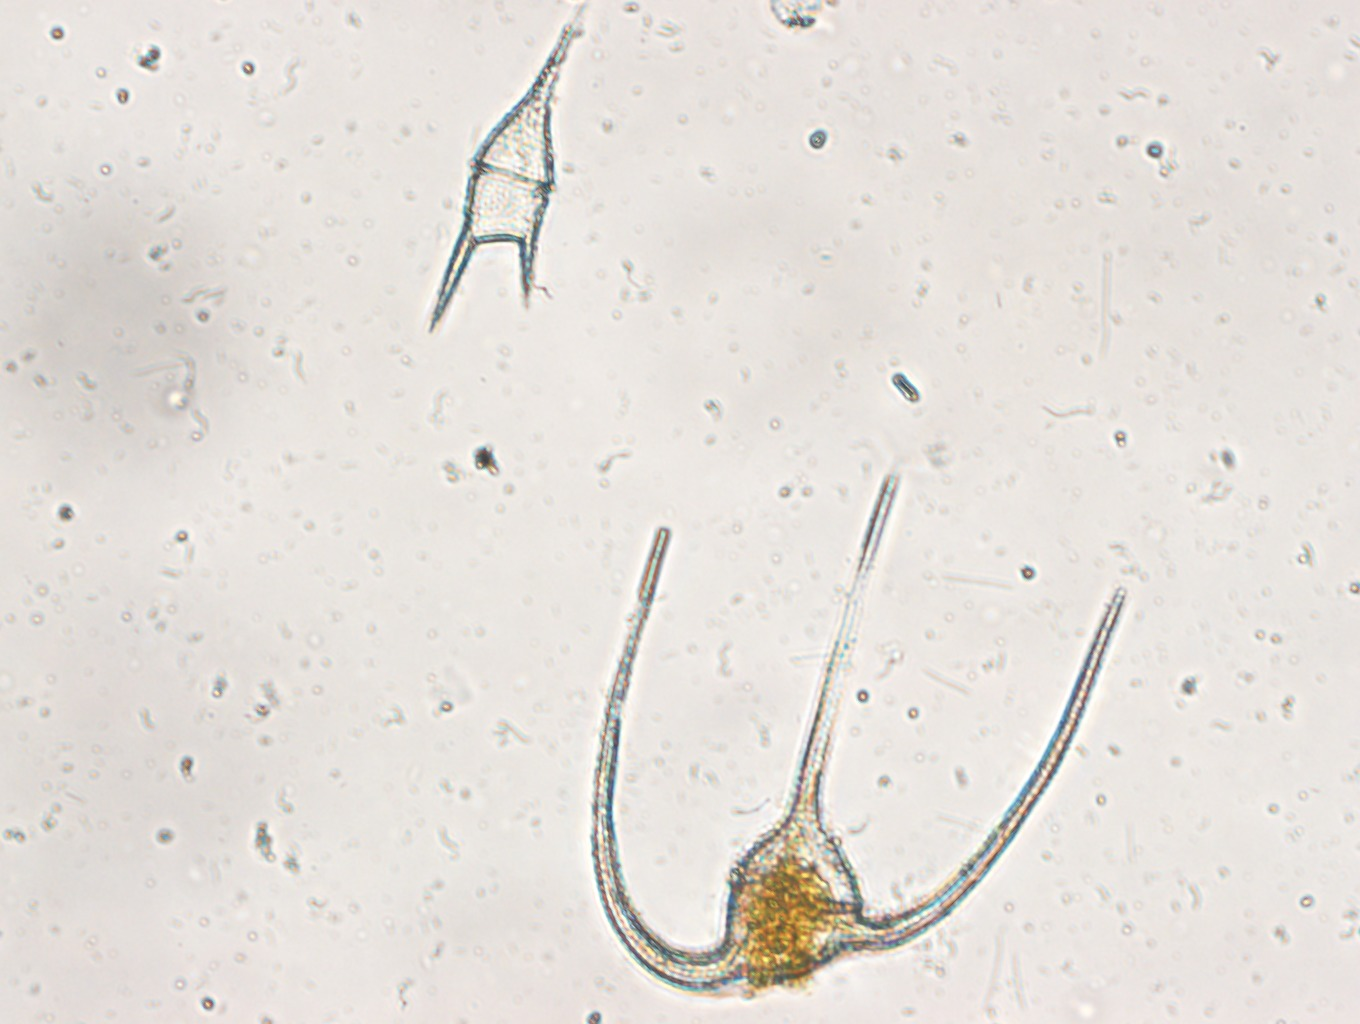ceratium furca: (416, 13, 579, 337)
ceratium trichoceros: (577, 464, 1136, 999)
